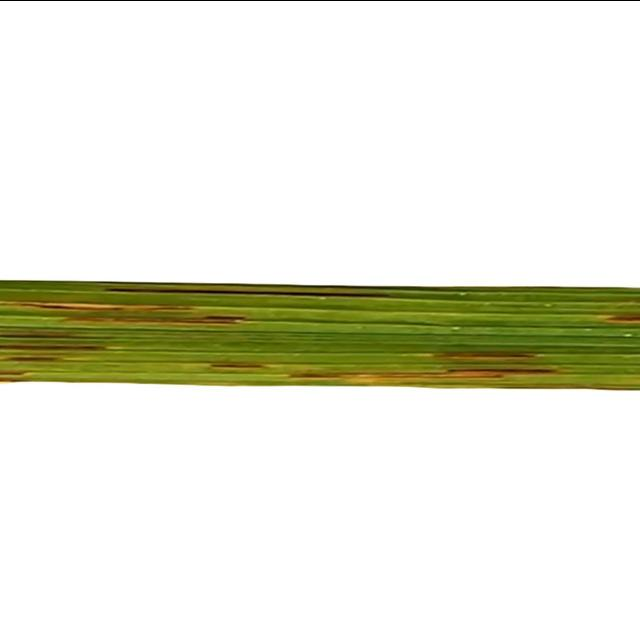Narrow brown: (0, 204, 640, 431)
